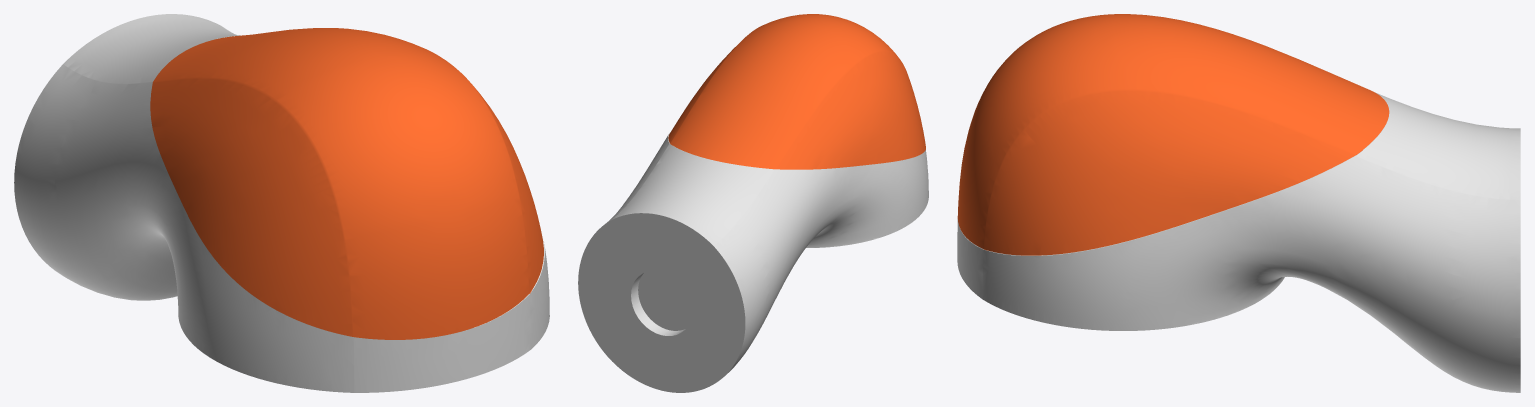
The model's file is v_kuka_link_2.dae.
3 views of the same model, side by side, from view 1: azimuth 30°, elevation 25°; view 2: azimuth 150°, elevation 25°; view 3: azimuth 270°, elevation 25° (orthographic). The views are drawn at different scales.
Visible parts, largest first — view 1: link_2; view 2: link_2; view 3: link_2.
Boxes of the visible parts, <box> form: link_2: <box>14,14,549,392</box>; link_2: <box>578,14,928,392</box>; link_2: <box>957,14,1520,392</box>.
Bounding box in the file's own units: 0.171 × 0.29 × 0.2001.
Materials: 1 (1 with a texture image).
